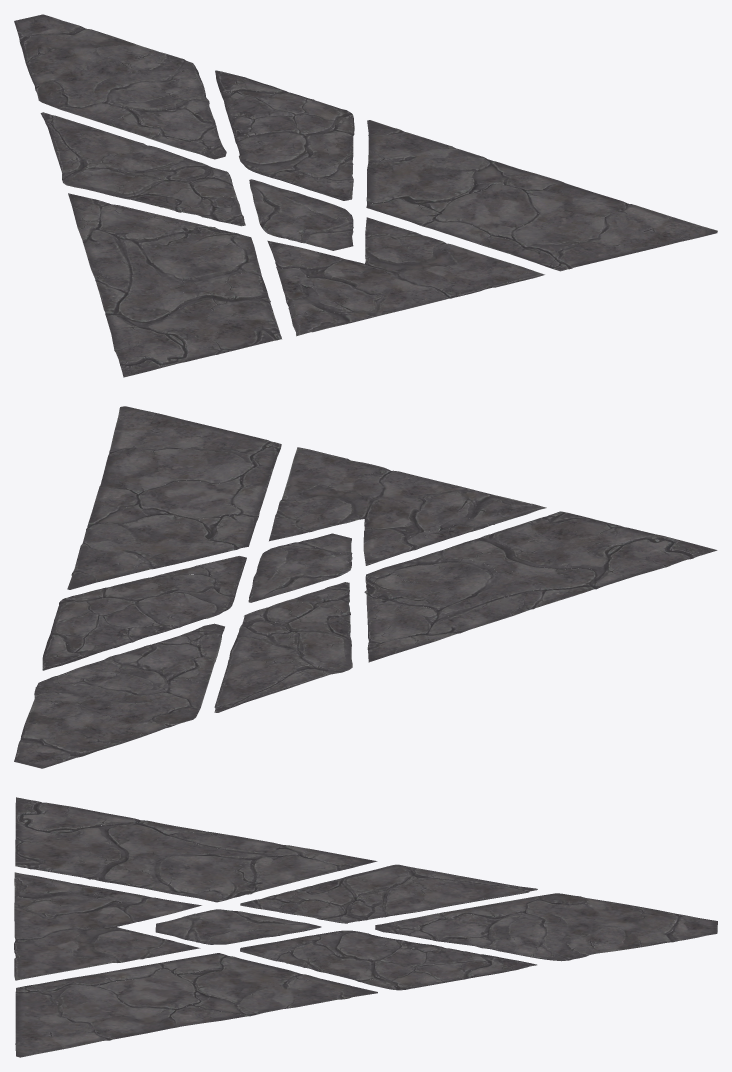
The picture shows the model from 3 angles, top to bottom: view 1: azimuth 30°, elevation 25°; view 2: azimuth 150°, elevation 25°; view 3: azimuth 270°, elevation 25°; orthographic projection. The views are drawn at different scales.
Visible parts, largest first — view 1: SM_BossArena_Fuzan_FrozenLava_LOD0; view 2: SM_BossArena_Fuzan_FrozenLava_LOD0; view 3: SM_BossArena_Fuzan_FrozenLava_LOD0.
Boxes of the visible parts, x1,y1,x2,y2 form: SM_BossArena_Fuzan_FrozenLava_LOD0: (14,14,717,377); SM_BossArena_Fuzan_FrozenLava_LOD0: (14,406,717,768); SM_BossArena_Fuzan_FrozenLava_LOD0: (14,797,717,1057).
Size of the model in its own units: 30.61 by 0.3959 by 35.04.
Materials: 8 (8 with a texture image).
